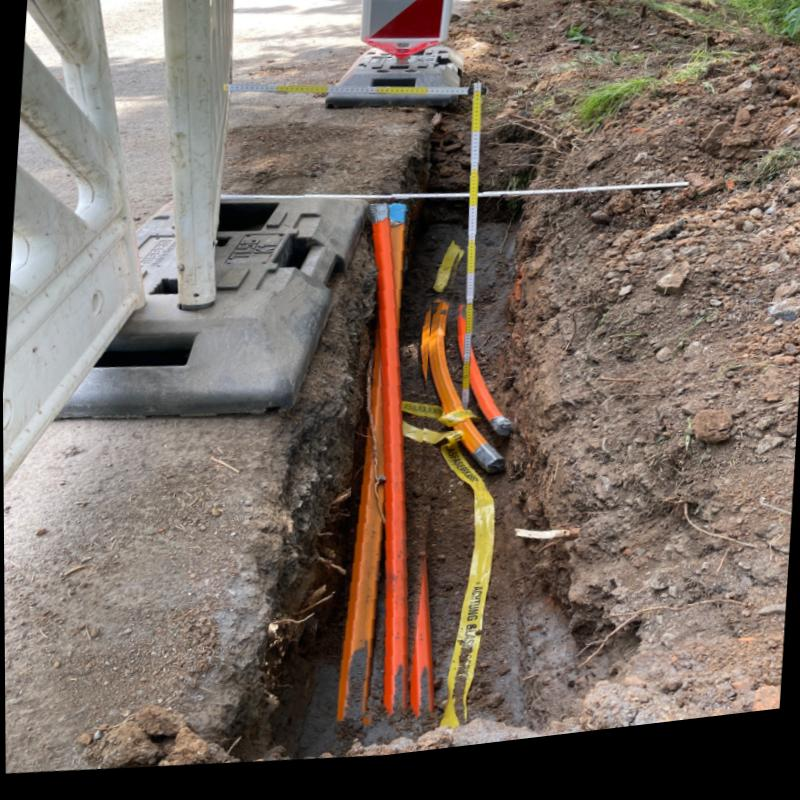Orang-Speednetrohrchen: (343, 213, 413, 730), (429, 313, 512, 480)
